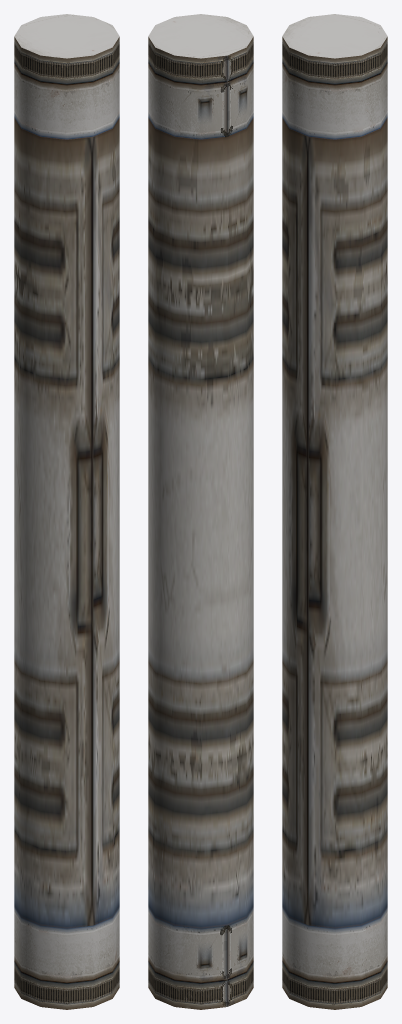
Rendered from scifi_pipe_small_1.FBX.
3 views of the same model, side by side, from view 1: azimuth 30°, elevation 25°; view 2: azimuth 210°, elevation 25°; view 3: azimuth 330°, elevation 25° (orthographic).
Parts seen in each view (by area): view 1: Cylinder028; view 2: Cylinder028; view 3: Cylinder028.
Boxes of the visible parts, bbox=[...] form: Cylinder028: bbox=[14, 14, 119, 1009]; Cylinder028: bbox=[148, 14, 253, 1009]; Cylinder028: bbox=[282, 14, 387, 1009].
Bounding box in the file's own units: 25.53 × 254 × 25.53.
